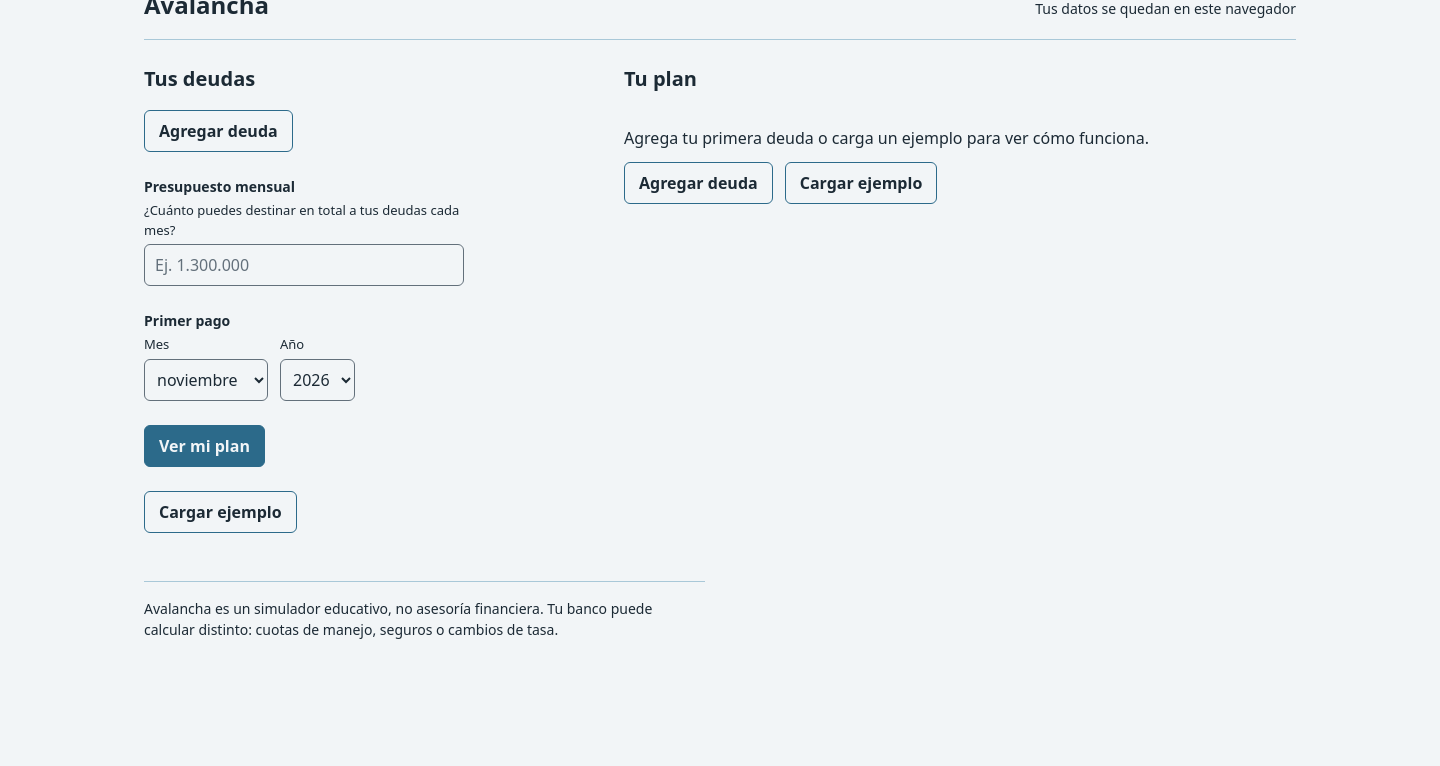
it: App › asks for confirmation before clearing everything
Step 1. Click the button "Cargar ejemplo" below "Año" → (220, 512), box [144, 490, 297, 532]
(page scrolled)
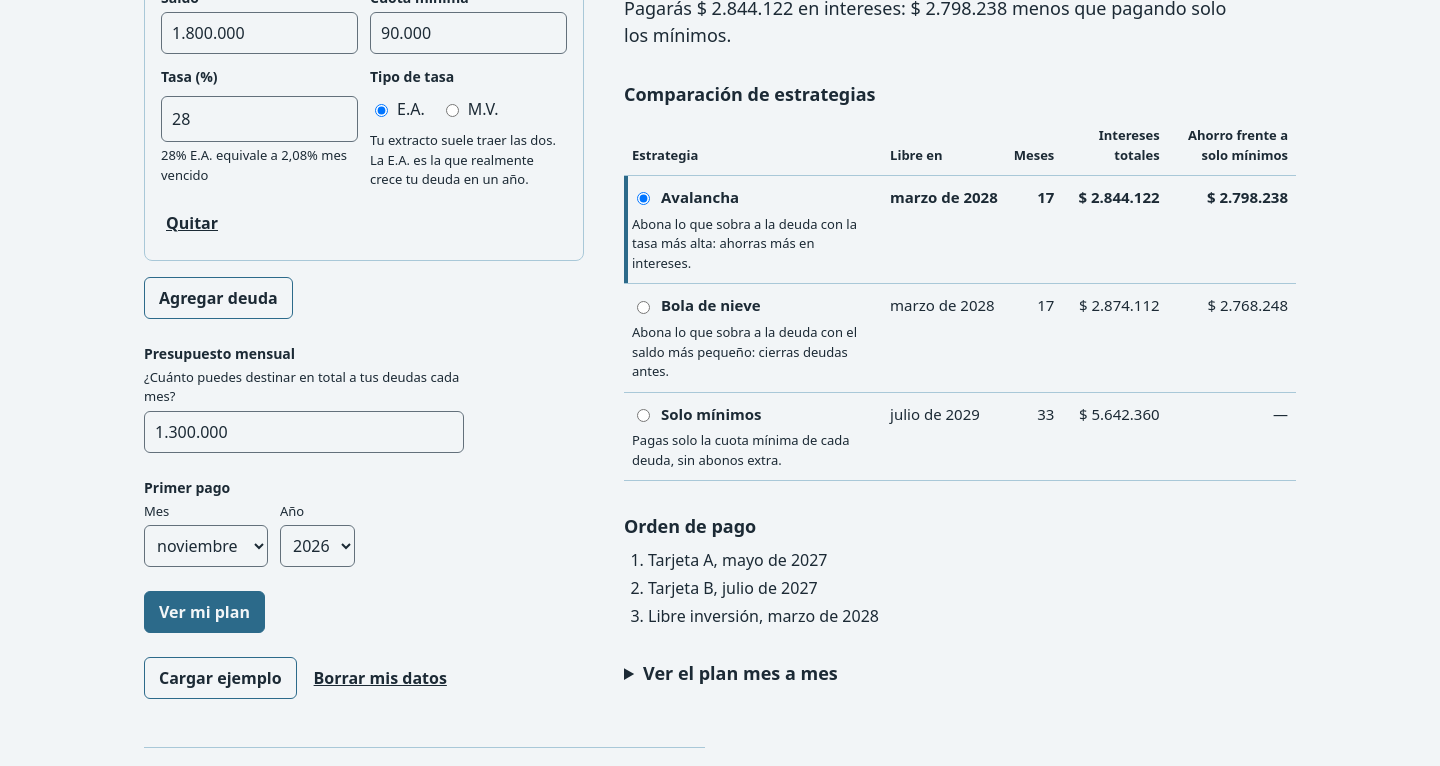
Step 2. Click the button "Borrar mis datos" → (380, 678), box [309, 657, 452, 699]
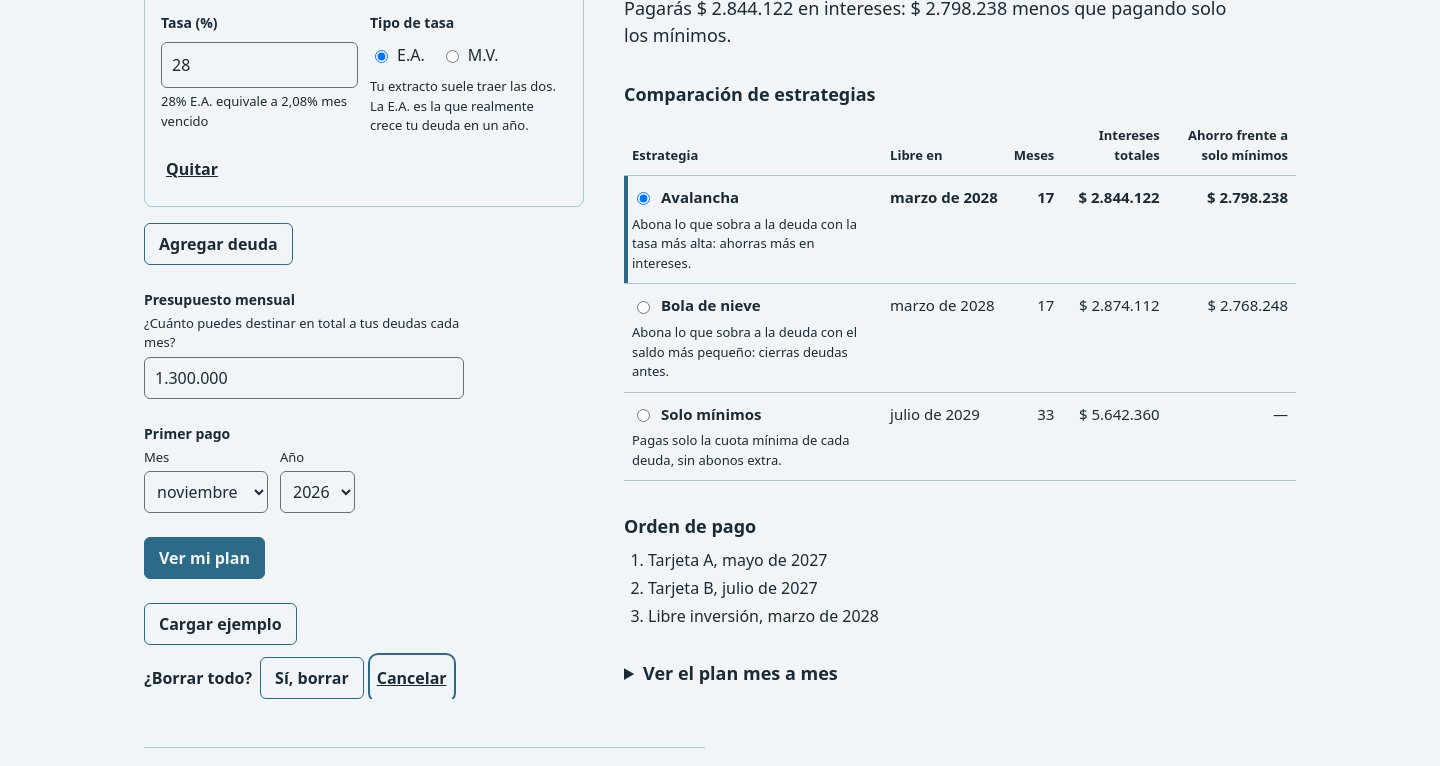
Step 3. Click the button "Cancelar" → (412, 678), box [372, 657, 452, 699]
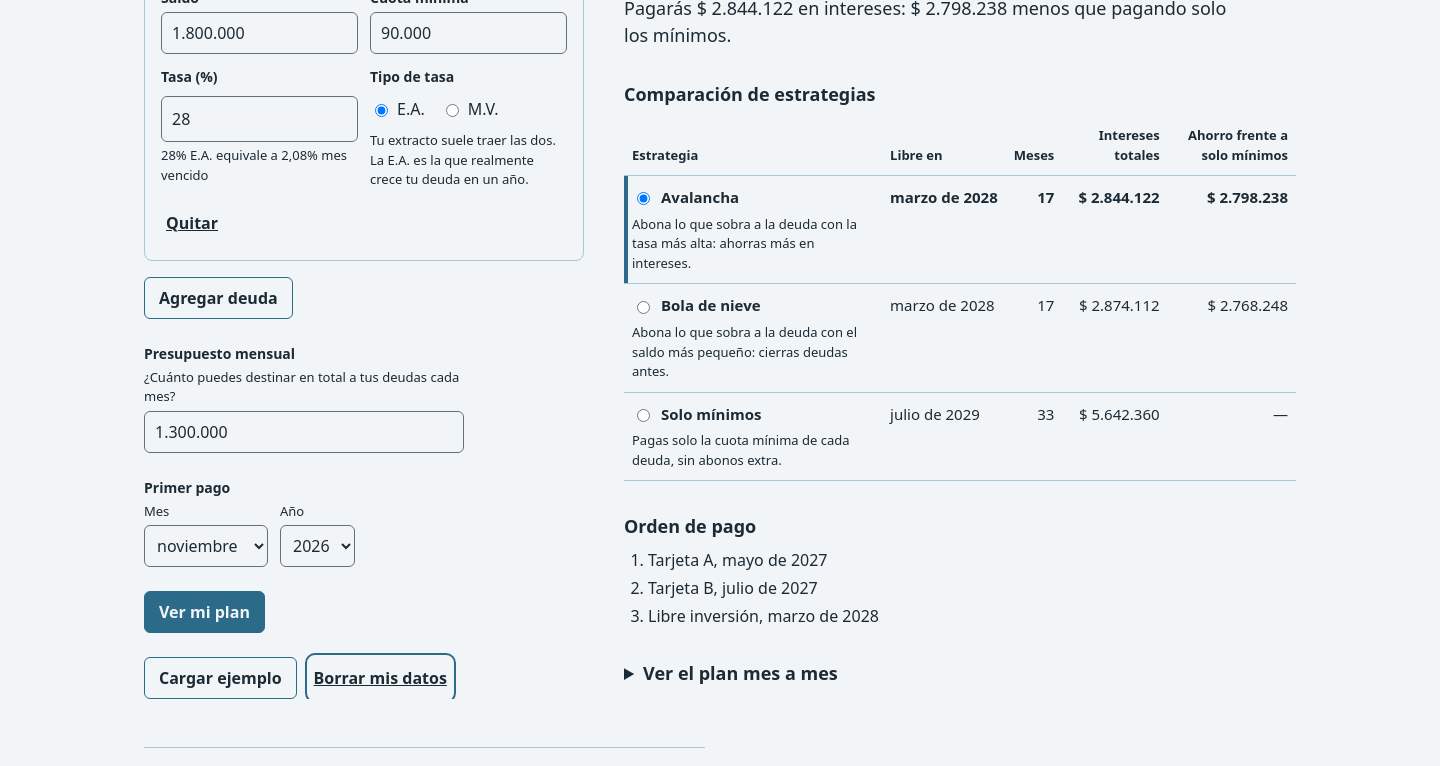
Step 4. Click the button "Borrar mis datos" → (380, 678), box [309, 657, 452, 699]
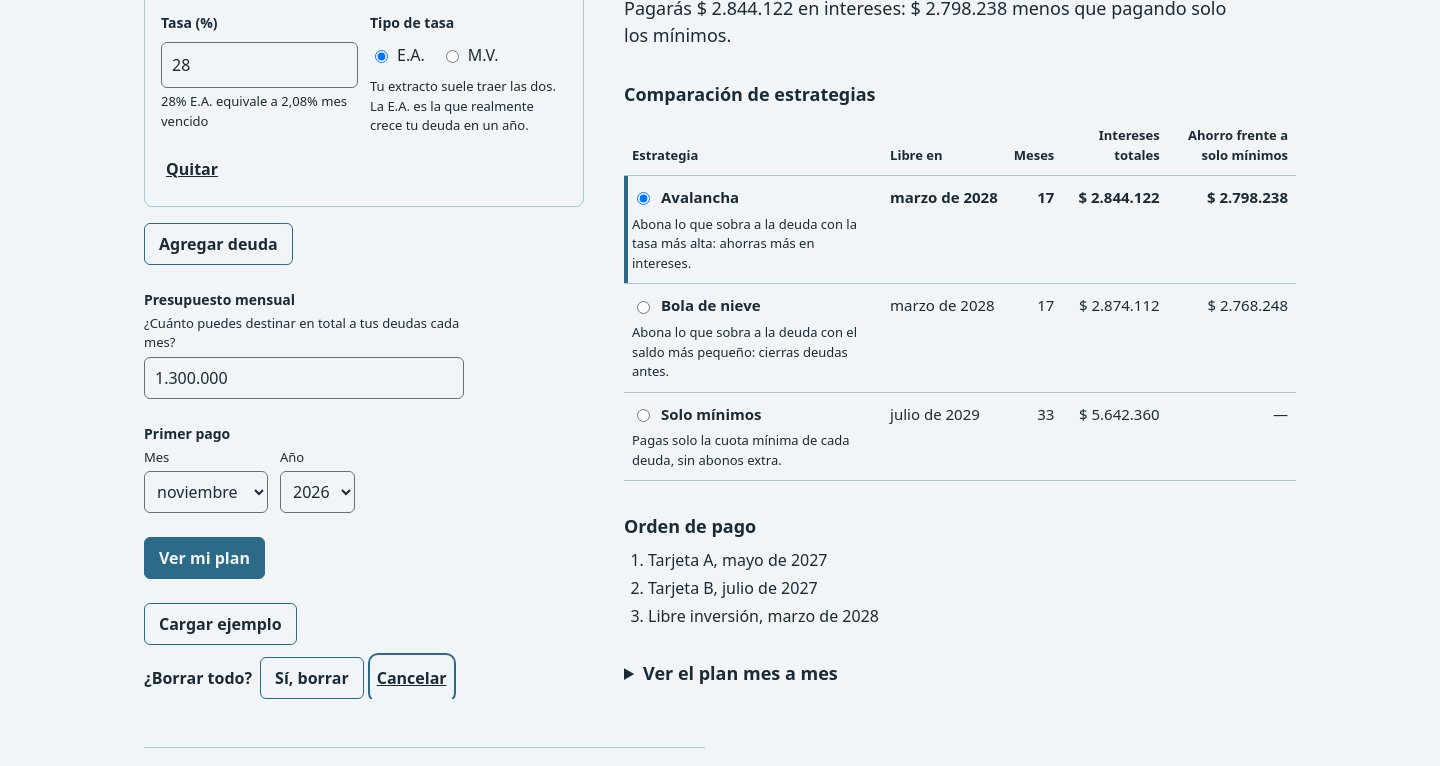
Step 5. Click the button "Sí, borrar" → (312, 678), box [260, 657, 364, 699]
(page scrolled)
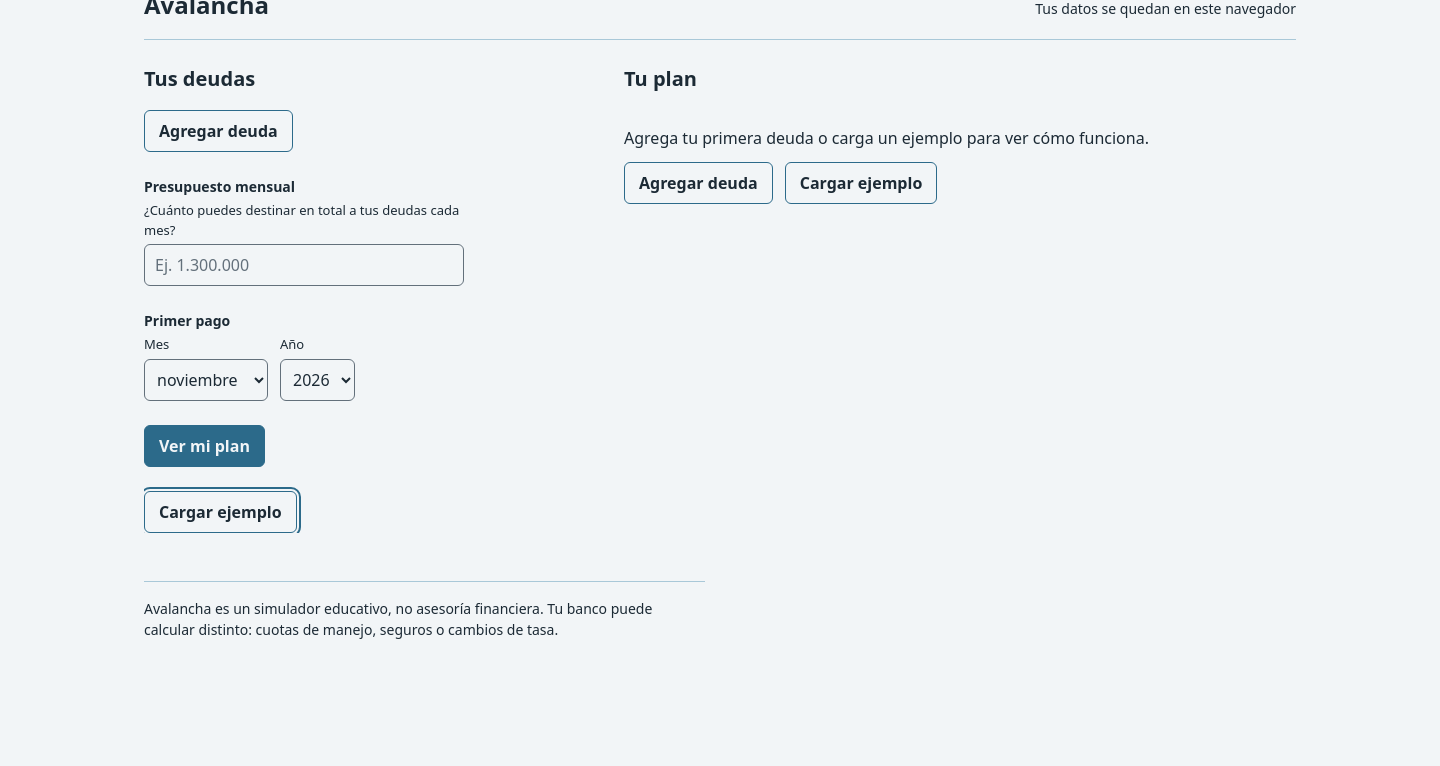
Expected: the button "Borrar mis datos" is not shown
Result: the text "Agrega tu primera deuda o carga un ejemplo para ver cómo funciona." is shown at [624, 127, 1149, 149]
